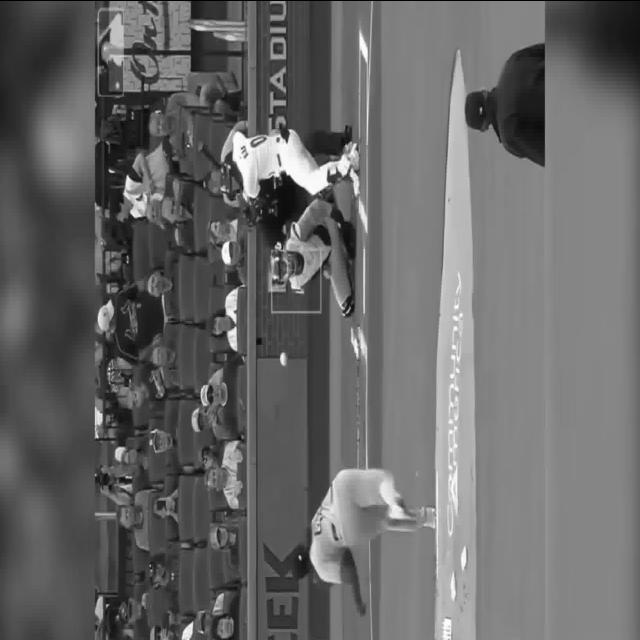base: (363, 245, 366, 312)
baseball: (280, 352, 286, 364)
baseball_glove: (337, 218, 357, 258)
bat: (196, 142, 218, 168)
shoe: (340, 150, 360, 192), (386, 499, 414, 519), (422, 503, 437, 530)
